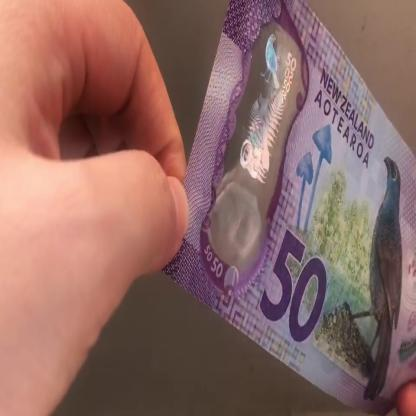50B: (215, 31, 298, 266)
